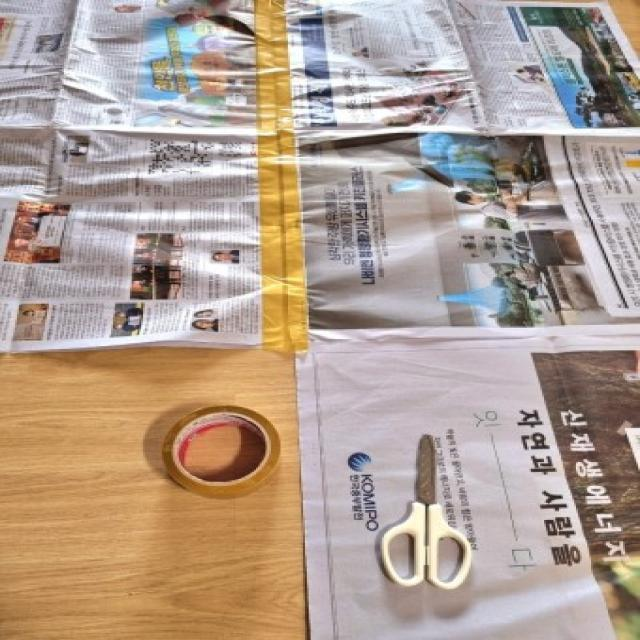reuseable_paper: (290, 0, 640, 340), (0, 0, 264, 348)
